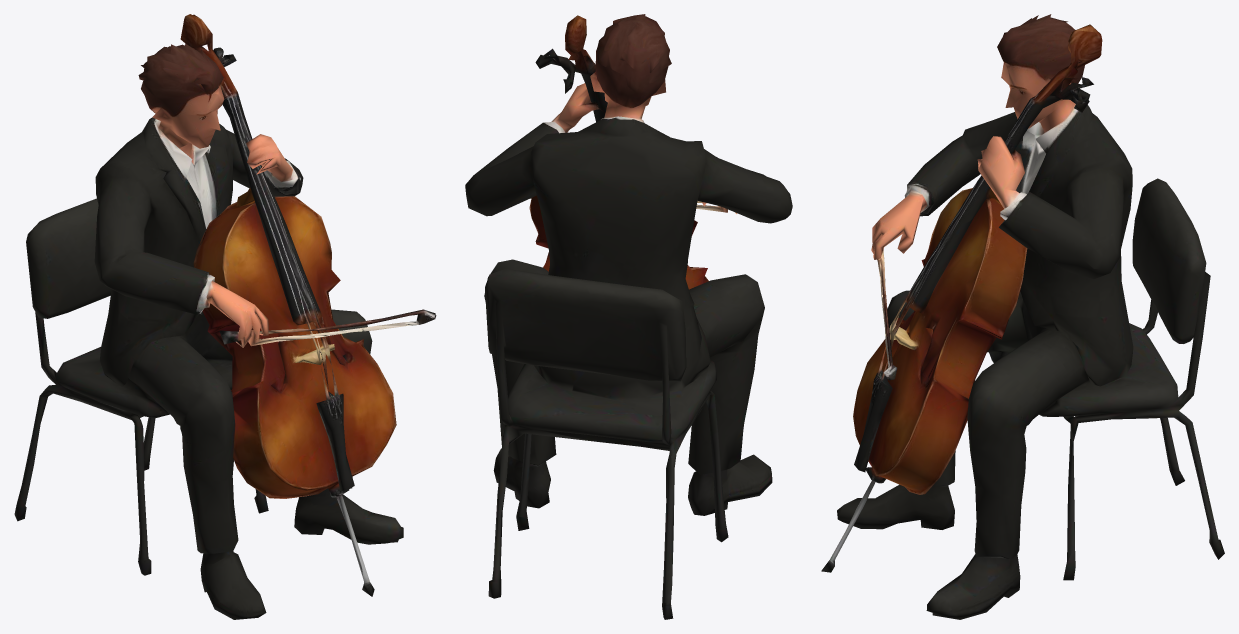
Rendered from cellist.glb.
3 renders of one model, left to right at view 1: azimuth 30°, elevation 25°; view 2: azimuth 150°, elevation 25°; view 3: azimuth 270°, elevation 25°, orthographic. The views are drawn at different scales.
Visible parts, largest first — view 1: tripo_node_2f1a1852-ce18-41ff-a160-09f0360f6a82; view 2: tripo_node_2f1a1852-ce18-41ff-a160-09f0360f6a82; view 3: tripo_node_2f1a1852-ce18-41ff-a160-09f0360f6a82.
Boxes of the visible parts, box(x1,y1,x2,y2) form: tripo_node_2f1a1852-ce18-41ff-a160-09f0360f6a82: box(14, 14, 436, 619); tripo_node_2f1a1852-ce18-41ff-a160-09f0360f6a82: box(465, 14, 792, 619); tripo_node_2f1a1852-ce18-41ff-a160-09f0360f6a82: box(821, 14, 1224, 619).
Size of the model in its own units: 0.772 by 1.25 by 0.8747.
Materials: 1 (1 with a texture image).
